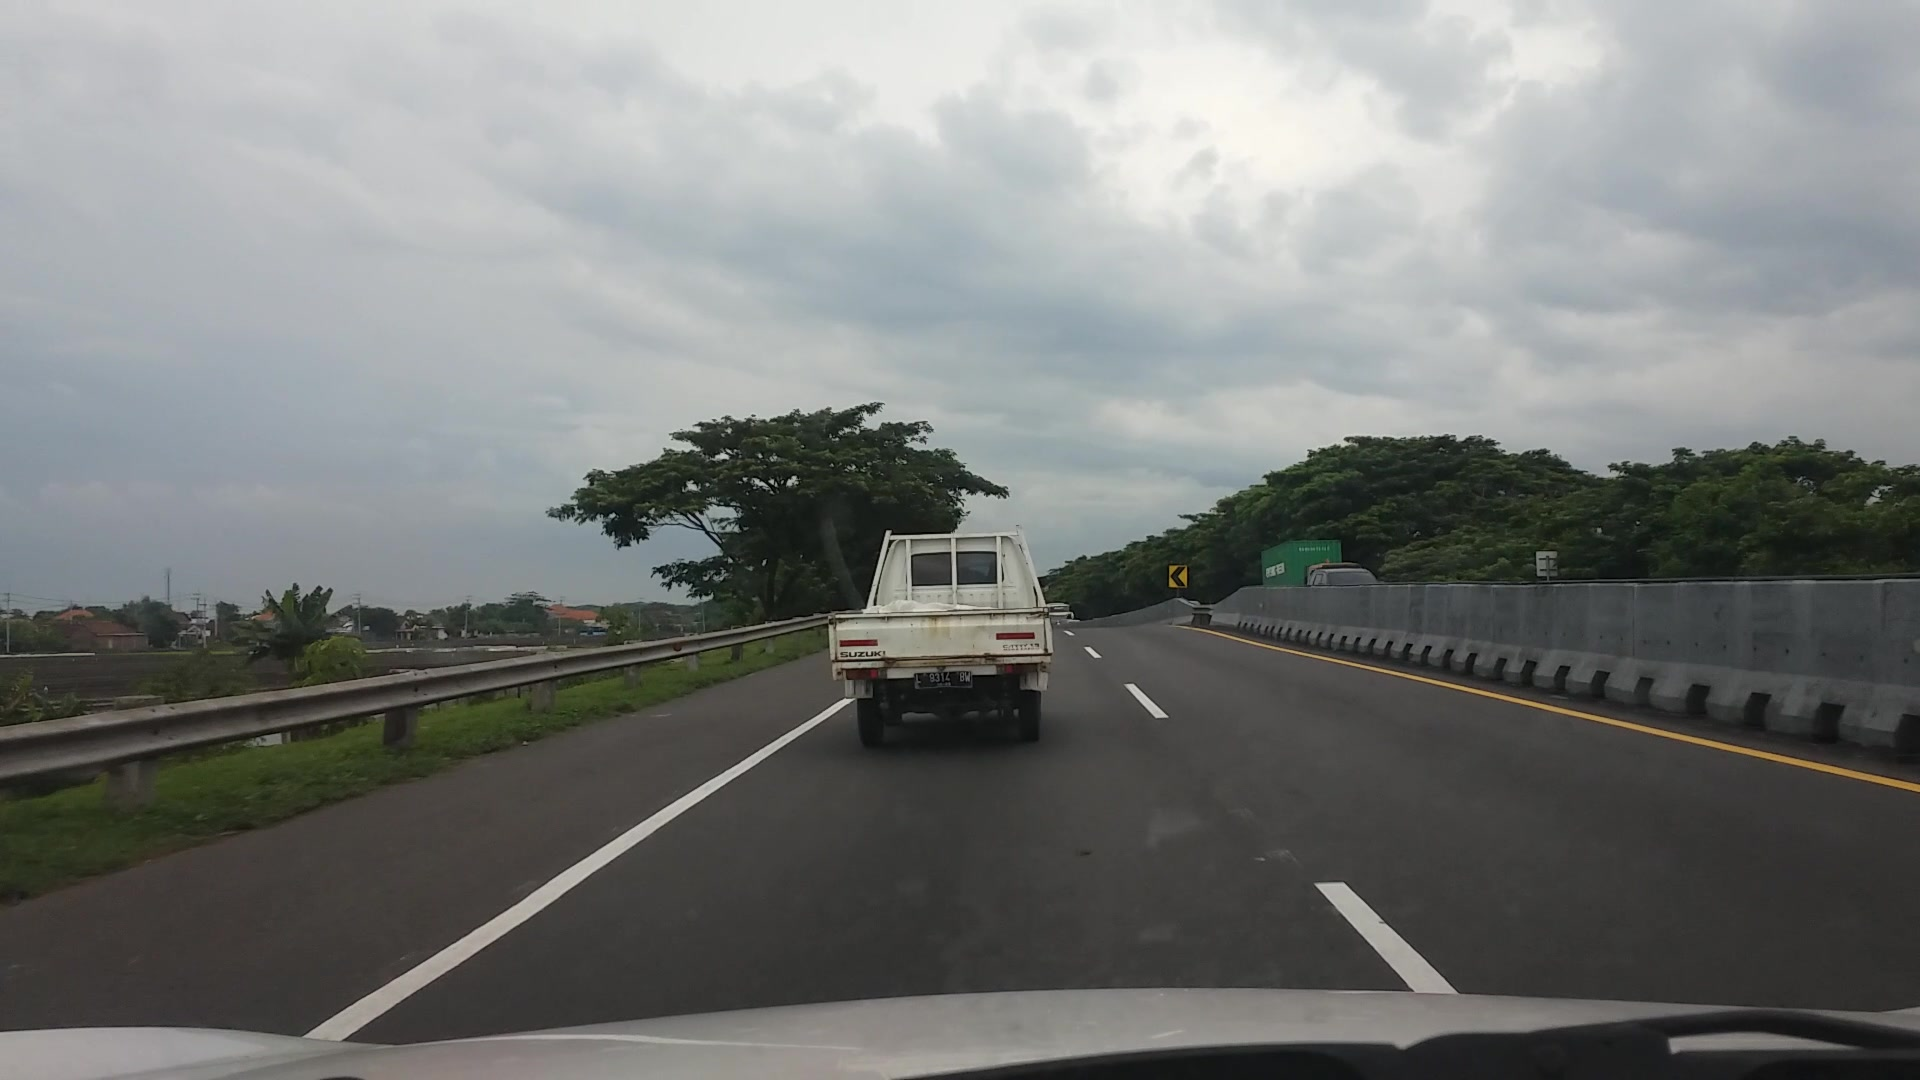plate_positive: (914, 671, 972, 688)
